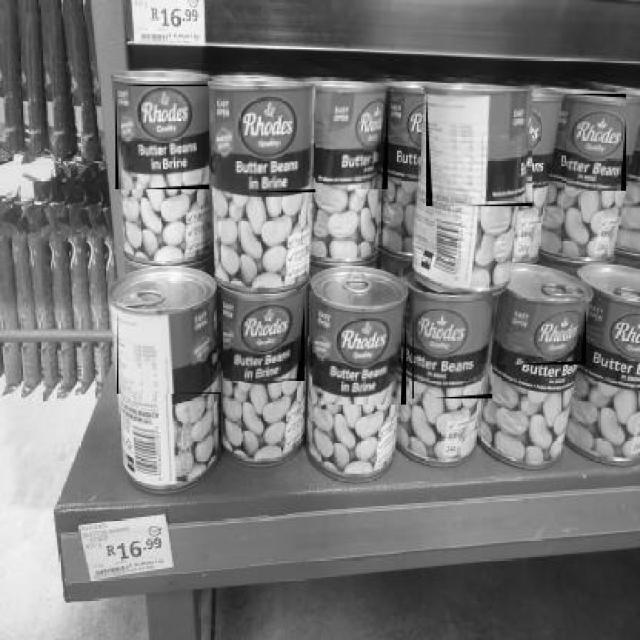Beans: (426, 91, 534, 208), (213, 87, 317, 195), (312, 297, 408, 406), (115, 86, 211, 190), (117, 310, 221, 396), (412, 292, 494, 400), (123, 85, 209, 179), (223, 289, 306, 381), (323, 85, 389, 191), (566, 94, 629, 192), (499, 299, 588, 367)
